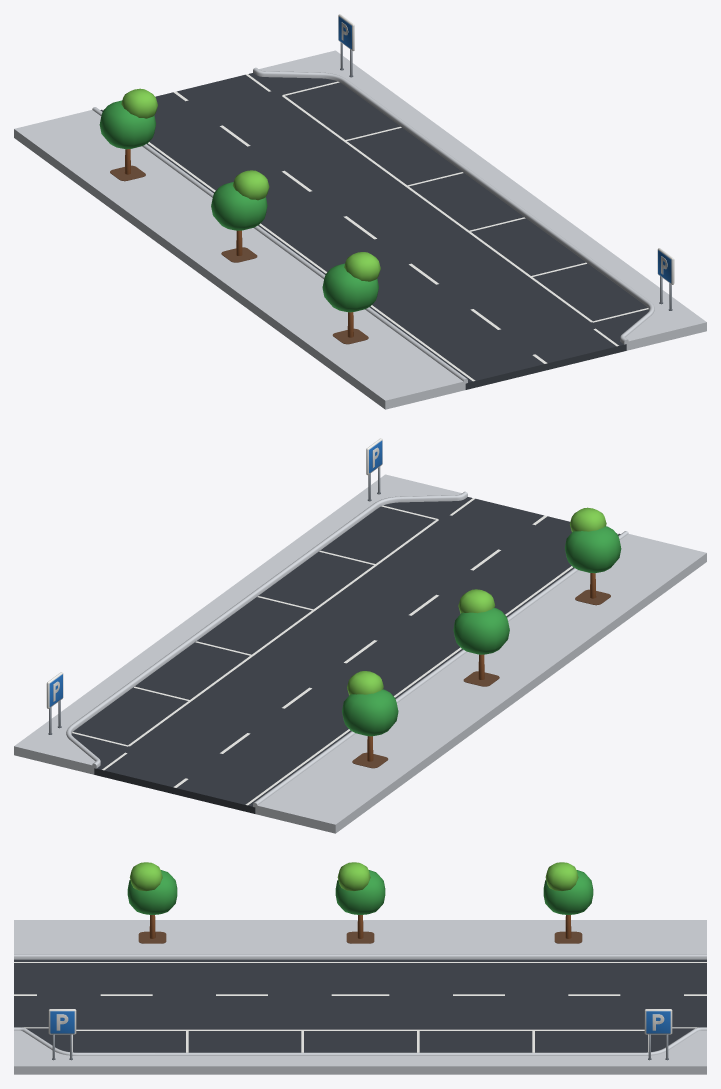
Rendered from estacionamento_vagas_rua.glb.
3 views of the same model, one above another, from view 1: azimuth 30°, elevation 25°; view 2: azimuth 150°, elevation 25°; view 3: azimuth 270°, elevation 25° (orthographic). The views are drawn at different scales.
Parts seen in each view (by area): view 1: estacionamento_vagas_rua; view 2: estacionamento_vagas_rua; view 3: estacionamento_vagas_rua.
Boxes of the visible parts, x1=… form: estacionamento_vagas_rua: x1=14, y1=14, x2=706, y2=409; estacionamento_vagas_rua: x1=14, y1=438, x2=706, y2=833; estacionamento_vagas_rua: x1=14, y1=862, x2=706, y2=1074.
Size of the model in its own units: 15 by 4.08 by 30.
Materials: 1 (1 with a texture image).
